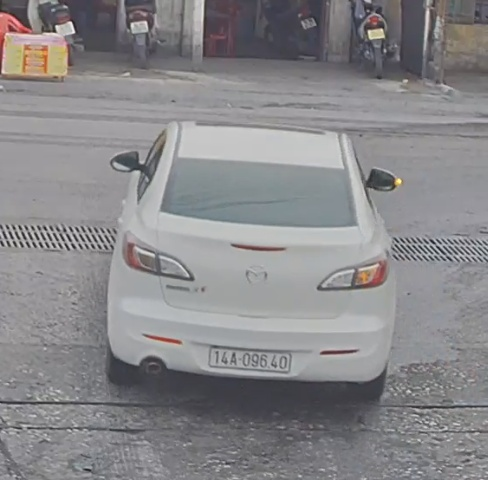vehicle plate: (205, 343, 301, 376)
